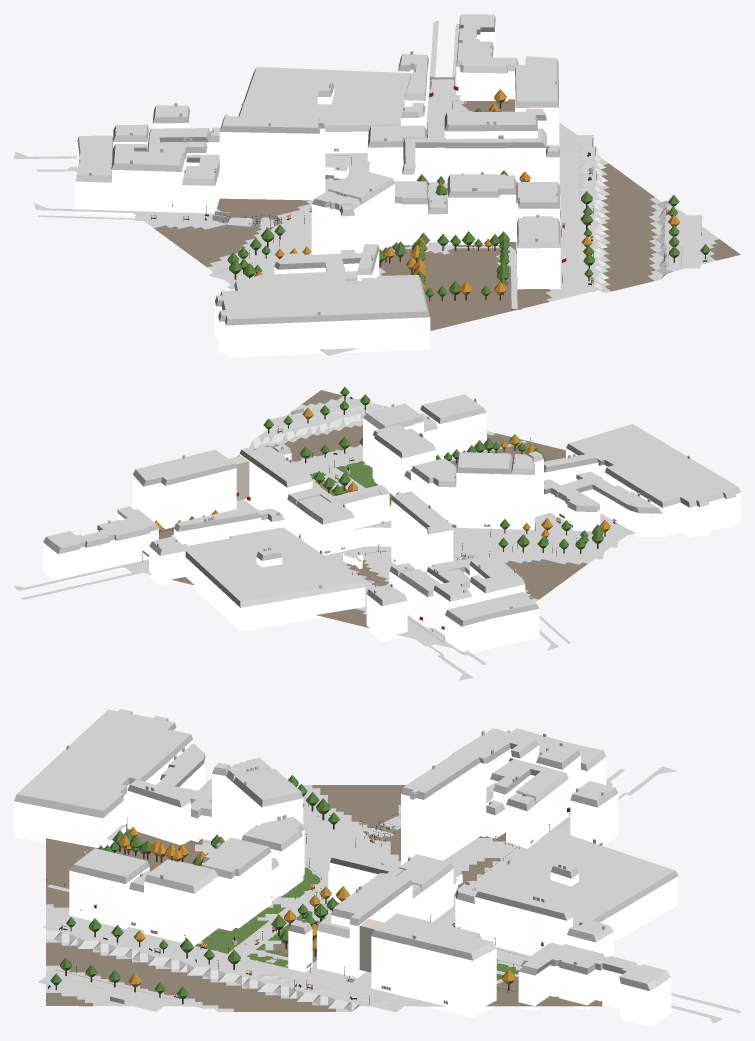
Rendered from zone_A7.glb.
3 renders of one model, top to bottom at view 1: azimuth 30°, elevation 25°; view 2: azimuth 150°, elevation 25°; view 3: azimuth 270°, elevation 25°, orthographic. The views are drawn at different scales.
Visible parts, largest first — view 1: zone_A7_batiments, zone_A7_terrain, zone_A7_sol_NOCOL, zone_A7_decor_NOCOL; view 2: zone_A7_batiments, zone_A7_sol_NOCOL, zone_A7_terrain, zone_A7_decor_NOCOL; view 3: zone_A7_batiments, zone_A7_terrain, zone_A7_sol_NOCOL, zone_A7_decor_NOCOL.
Part boxes in pixels (x1,y1,x2,y2): zone_A7_batiments: (75,14,701,357); zone_A7_terrain: (76,79,740,355); zone_A7_sol_NOCOL: (14,21,708,308); zone_A7_decor_NOCOL: (204,79,710,309); zone_A7_batiments: (43,394,740,656); zone_A7_sol_NOCOL: (14,398,635,680); zone_A7_terrain: (123,390,627,651); zone_A7_decor_NOCOL: (148,387,610,639); zone_A7_batiments: (14,709,678,1026); zone_A7_terrain: (46,785,602,1011); zone_A7_sol_NOCOL: (38,766,740,1023); zone_A7_decor_NOCOL: (46,775,569,1004).
Bounding box in the file's own units: 253 × 37.17 × 278.
